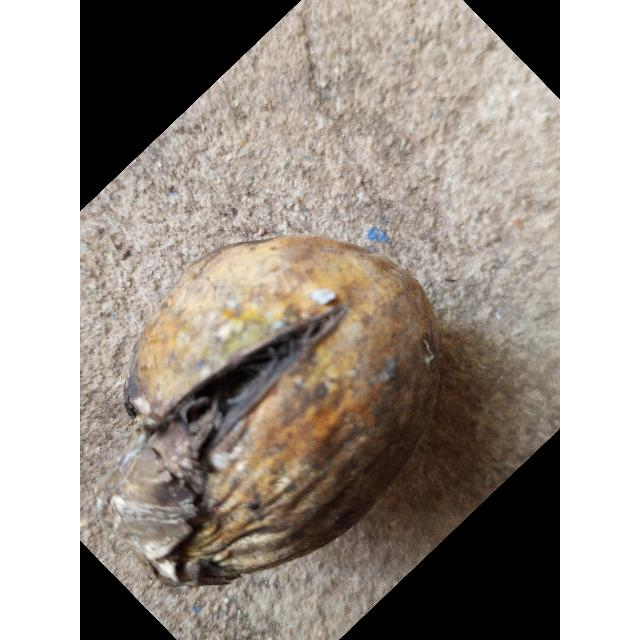damaged: (113, 233, 442, 591)
